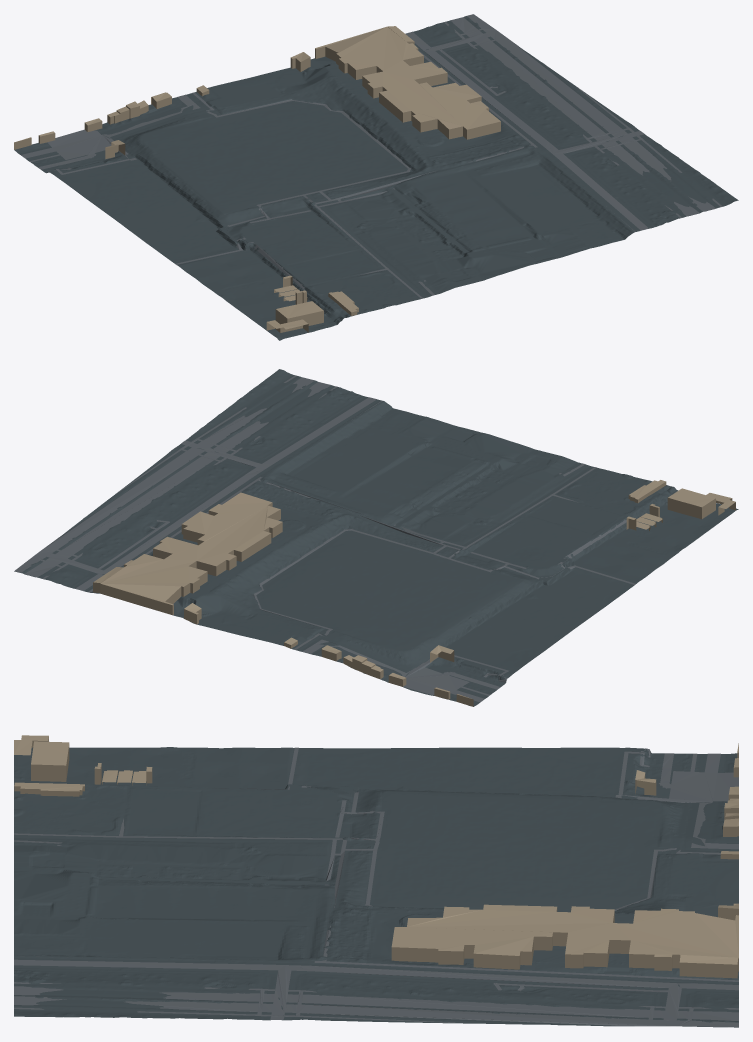
Rendered from epsg26910-1417-10880.lod0.glb.
3 renders of one model, top to bottom at view 1: azimuth 30°, elevation 25°; view 2: azimuth 150°, elevation 25°; view 3: azimuth 270°, elevation 25°, orthographic. The views are drawn at different scales.
Parts seen in each view (by area): view 1: epsg26910-1417-10880-lod0; view 2: epsg26910-1417-10880-lod0; view 3: epsg26910-1417-10880-lod0.
Boxes of the visible parts, left/top/right/bottom form: epsg26910-1417-10880-lod0: left=14, top=14, right=738, bottom=340; epsg26910-1417-10880-lod0: left=14, top=369, right=738, bottom=706; epsg26910-1417-10880-lod0: left=14, top=735, right=738, bottom=1027.
Bounding box in the file's own units: 384 × 27.68 × 384.
